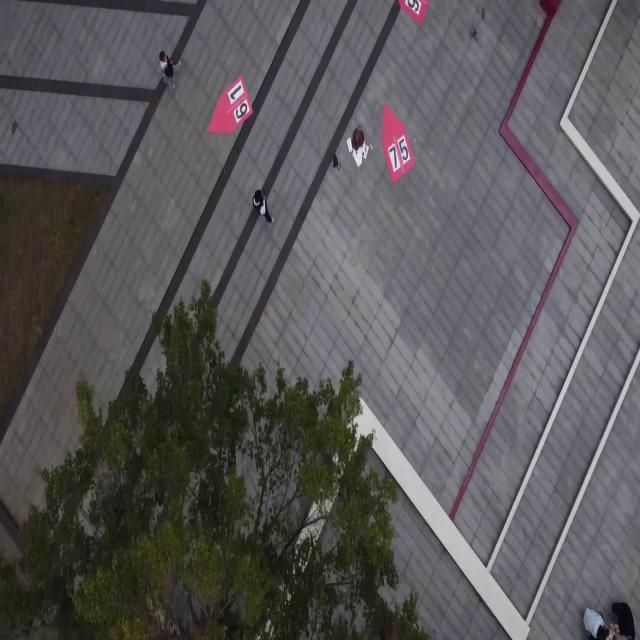-sign-: (203, 76, 256, 138), (381, 102, 415, 185)
